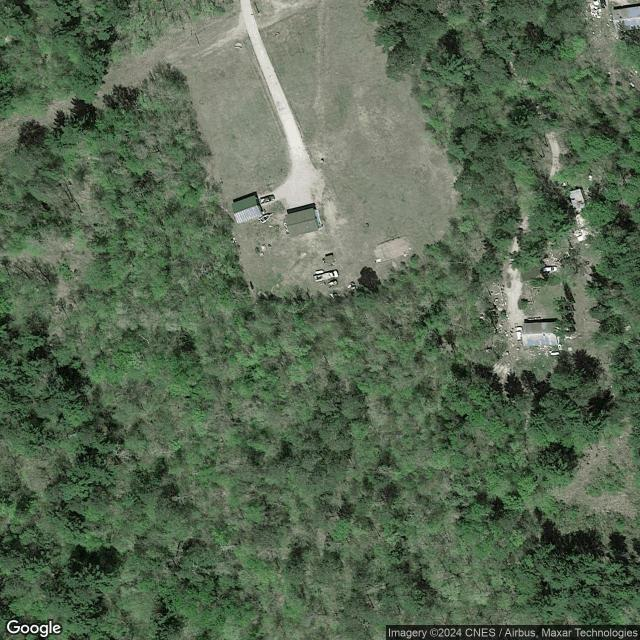Propane: (314, 268, 324, 275), (551, 352, 560, 356)
